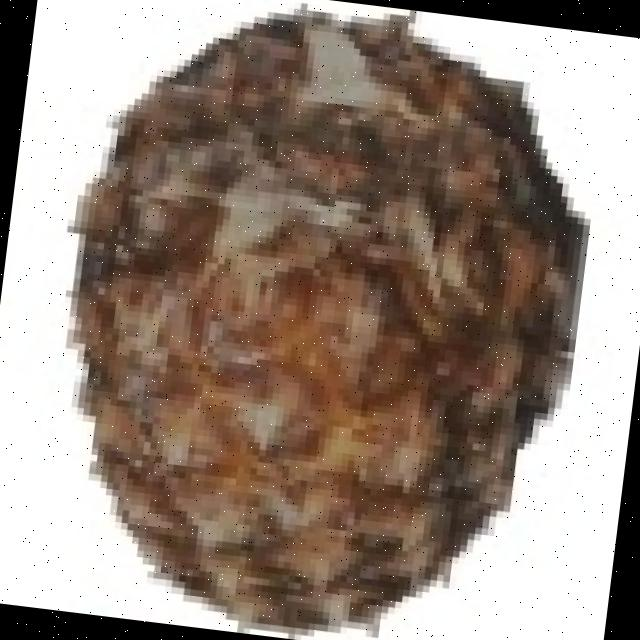pineapple: (63, 24, 569, 635)
